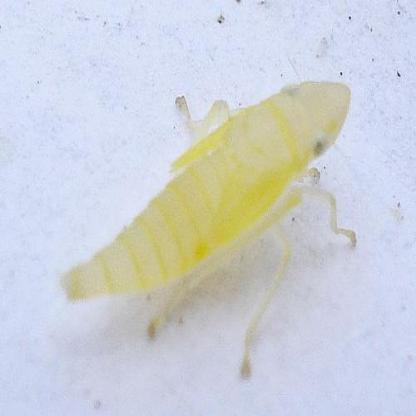green-leafhopper: (61, 75, 357, 378)
